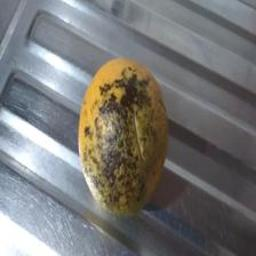Orange Semirotten: (69, 53, 192, 213)
